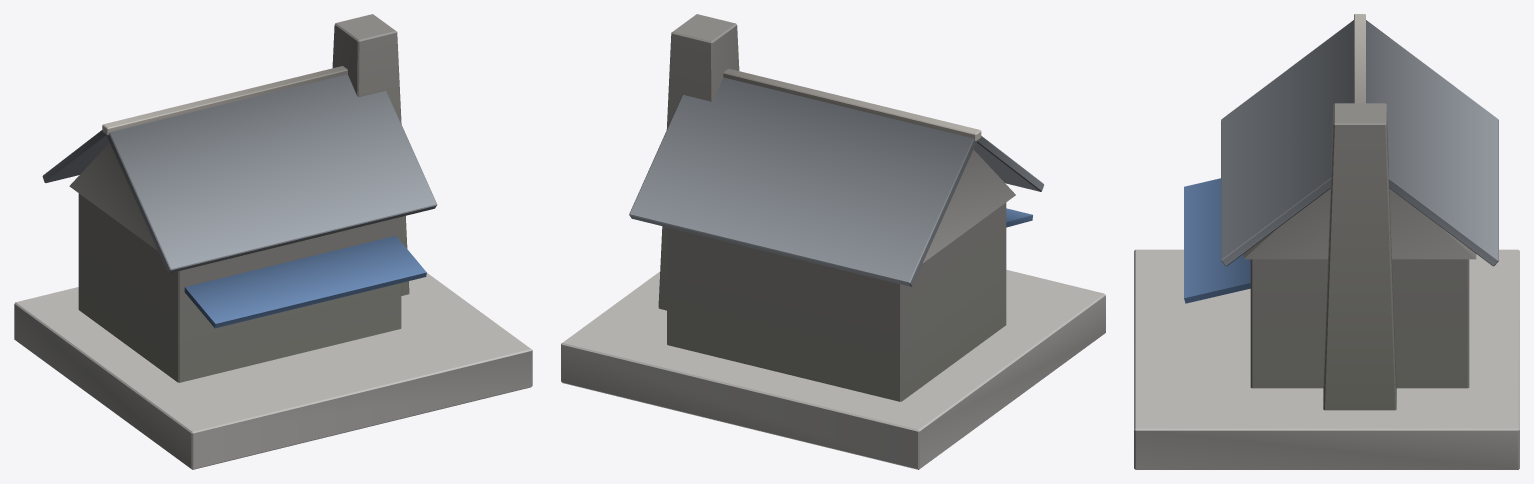
File: armourer_l1_lod2.glb
3 views of the same model, side by side, from view 1: azimuth 30°, elevation 25°; view 2: azimuth 150°, elevation 25°; view 3: azimuth 270°, elevation 25° (orthographic). The views are drawn at different scales.
Visible parts, largest first — view 1: armourer_l1_lod2; view 2: armourer_l1_lod2; view 3: armourer_l1_lod2.
Boxes of the visible parts, x1,y1,x2,y2 form: armourer_l1_lod2: (14,14,532,469); armourer_l1_lod2: (561,14,1105,469); armourer_l1_lod2: (1134,14,1519,469).
Size of the model in its own units: 8.4 by 7.05 by 7.6.
